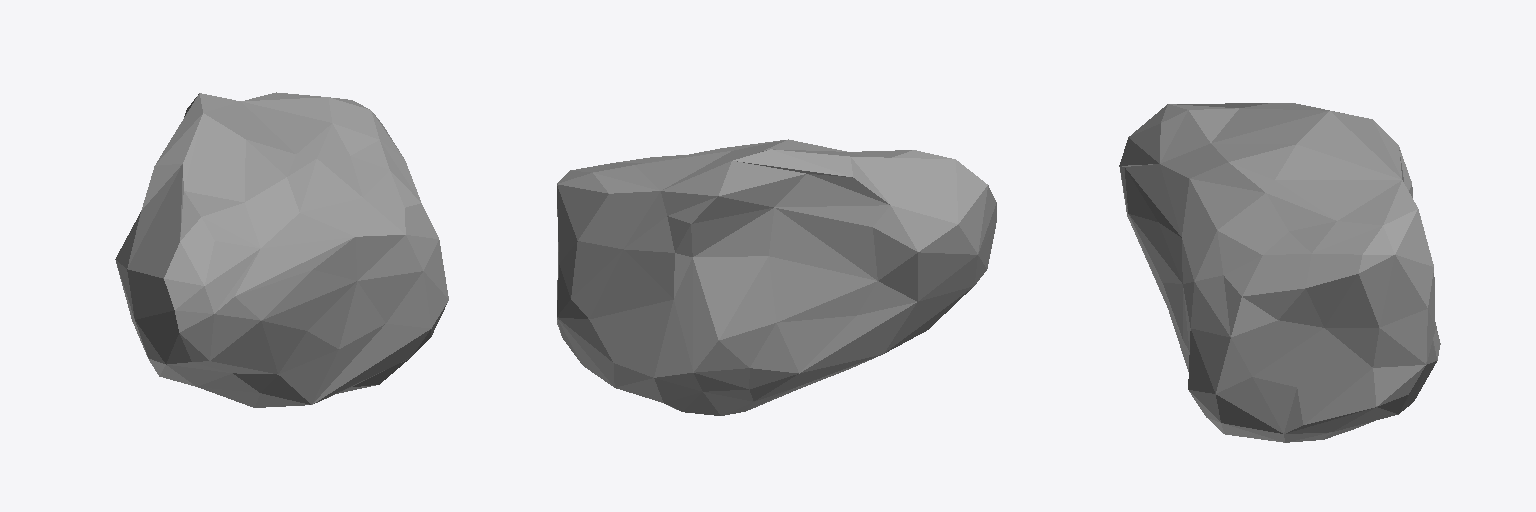
The model's file is nhlpr3.obj.
The picture shows the model from 3 angles: view 1: azimuth 30°, elevation 25°; view 2: azimuth 150°, elevation 25°; view 3: azimuth 270°, elevation 25°; orthographic projection.
Parts seen in each view (by area): view 1: r3lowpoly_Cube.001; view 2: r3lowpoly_Cube.001; view 3: r3lowpoly_Cube.001.
Part boxes in pixels (left/top/right/bottom): r3lowpoly_Cube.001: left=115, top=92, right=448, bottom=407; r3lowpoly_Cube.001: left=557, top=139, right=996, bottom=415; r3lowpoly_Cube.001: left=1119, top=103, right=1440, bottom=442.
Size of the model in its own units: 3.05 by 2.32 by 2.56.